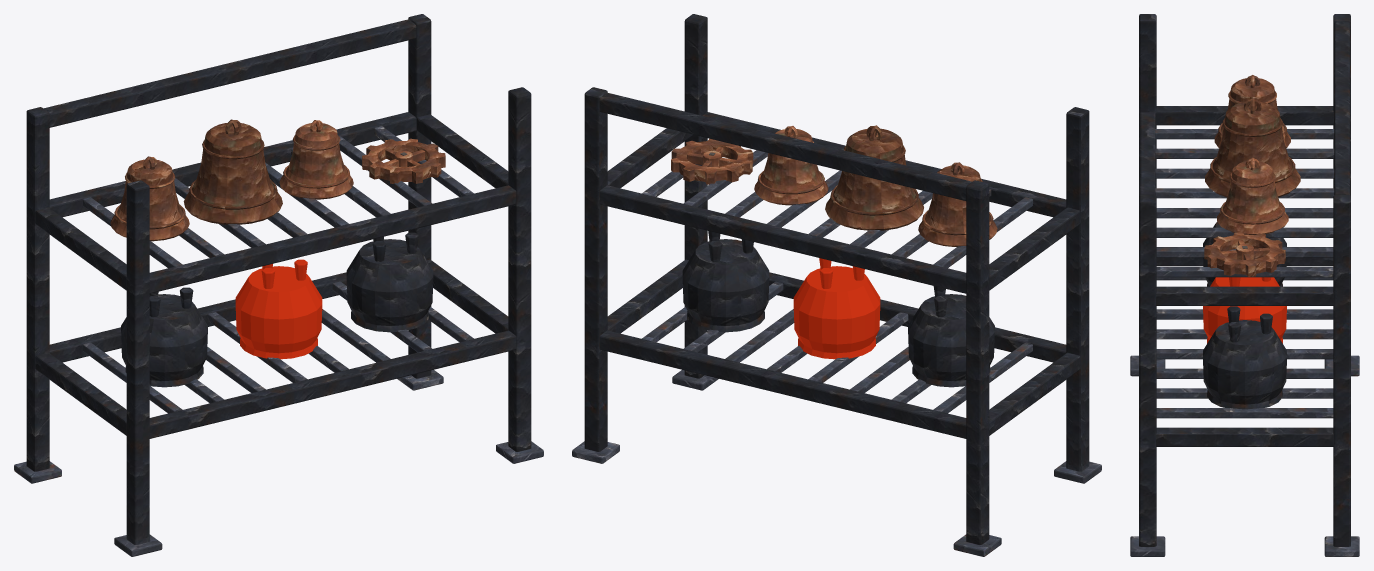
The model's file is cf_cooling_rack.glb.
3 renders of one model, left to right at view 1: azimuth 30°, elevation 25°; view 2: azimuth 150°, elevation 25°; view 3: azimuth 270°, elevation 25°, orthographic. The views are drawn at different scales.
Parts seen in each view (by area): view 1: model; view 2: model; view 3: model.
Part boxes in pixels (x1,y1,x2,y2): model: (14,14,543,556); model: (572,14,1101,556); model: (1130,14,1359,556).
Size of the model in its own units: 1.19 by 1 by 0.59.
Materials: 7 (5 with a texture image).
